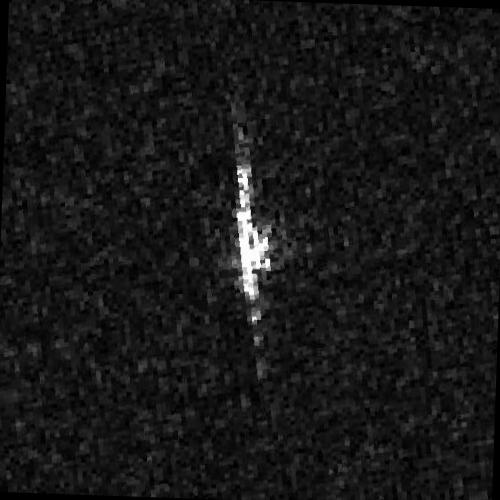ship: (235, 145, 272, 352)
